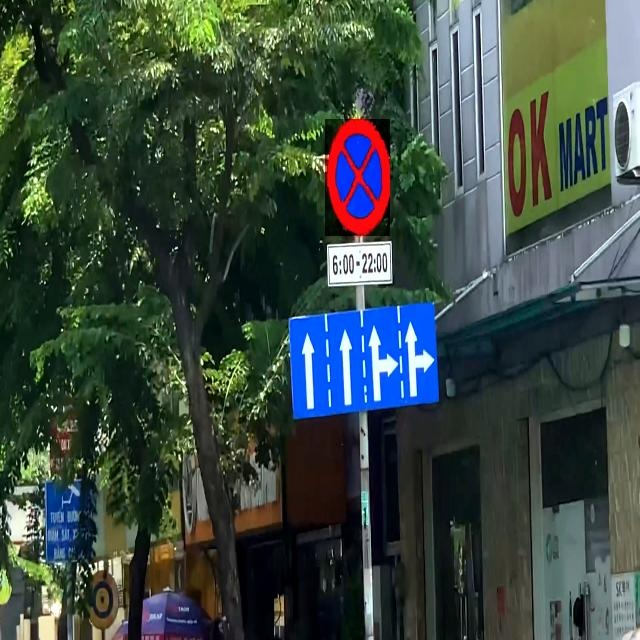bien_chi_dan: (325, 119, 390, 236)
